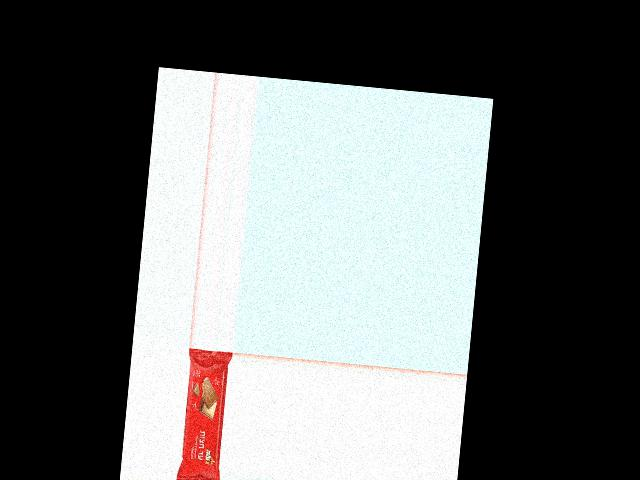chocolate: (175, 349, 232, 480)
